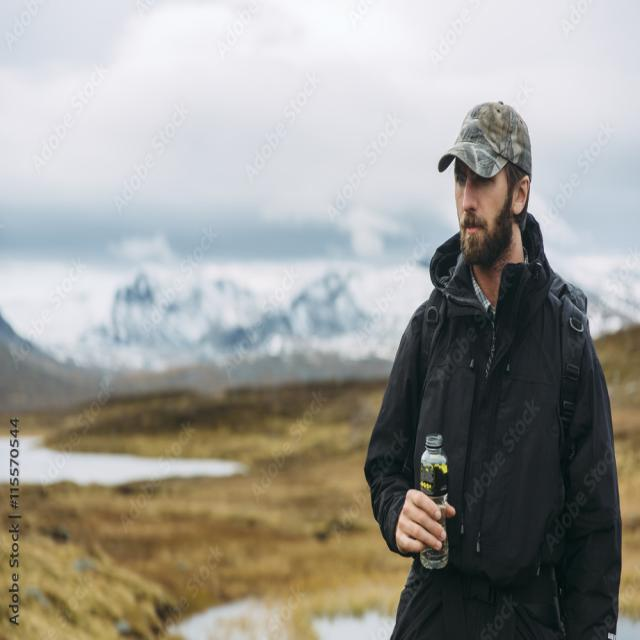bottle: (418, 434, 450, 572)
